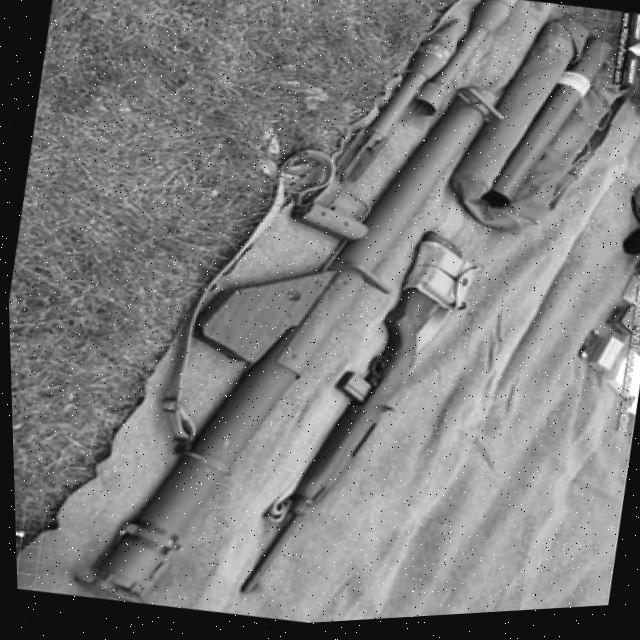firearm: (220, 208, 474, 628)
grenade: (405, 0, 543, 141), (357, 7, 469, 161)
rocket: (46, 27, 521, 638)
